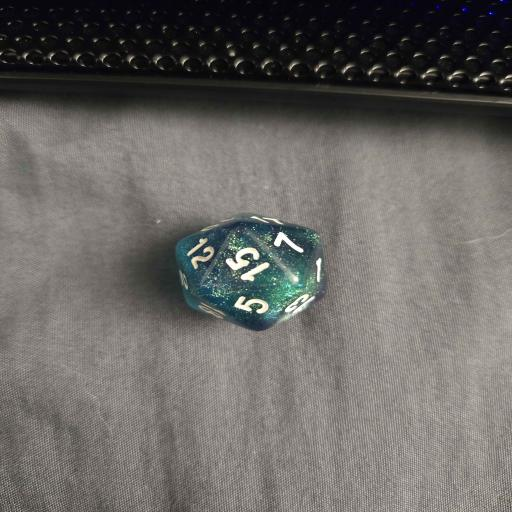twenty sided dice: (173, 213, 327, 331)
